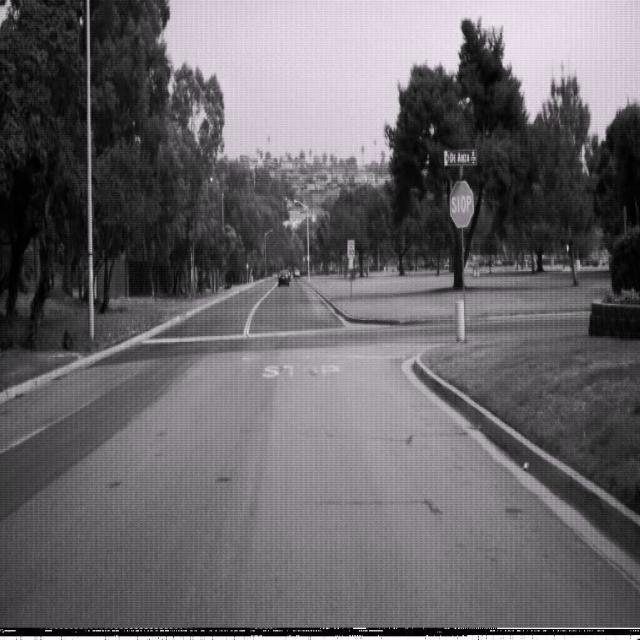stop_sign: (449, 179, 474, 228)
